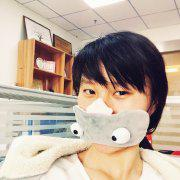WRONG: (77, 77, 153, 152)
